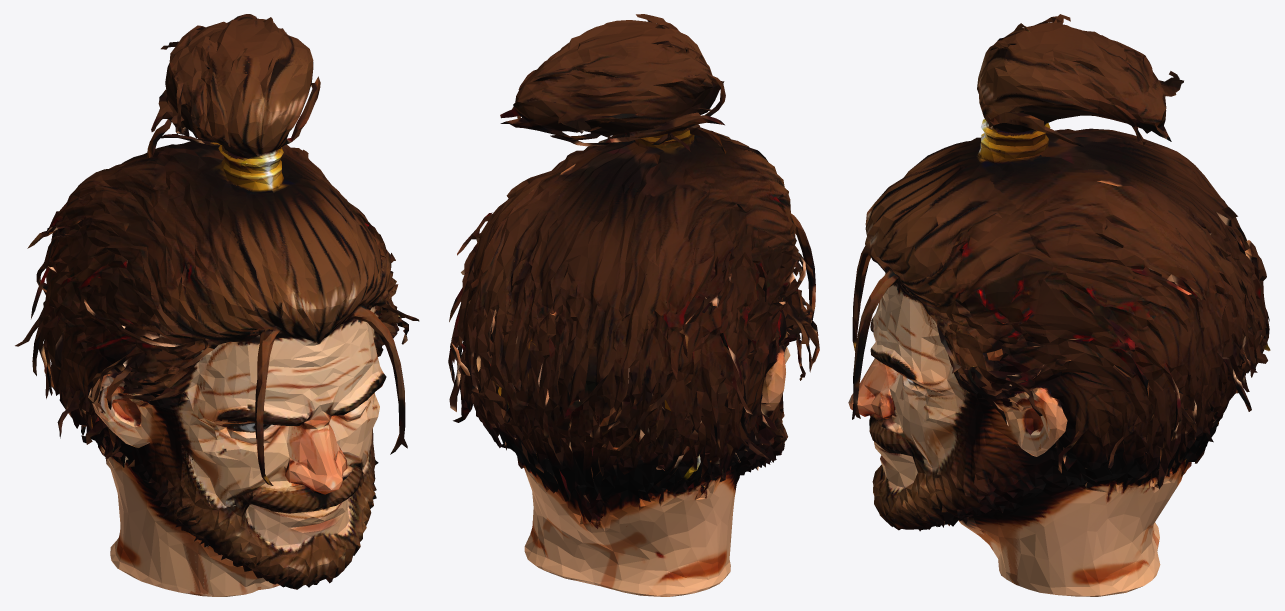
The model's file is trav_tamotsu_portrait_face.glb.
The picture shows the model from 3 angles, left to right: view 1: azimuth 30°, elevation 25°; view 2: azimuth 150°, elevation 25°; view 3: azimuth 270°, elevation 25°; orthographic projection.
Parts seen in each view (by area): view 1: temp_mesh.ply; view 2: temp_mesh.ply; view 3: temp_mesh.ply.
Boxes of the visible parts, x1=… form: temp_mesh.ply: x1=15, y1=14, x2=419, y2=596; temp_mesh.ply: x1=448, y1=14, x2=819, y2=596; temp_mesh.ply: x1=848, y1=14, x2=1270, y2=596.
Size of the model in its own units: 1.22 by 1.97 by 1.41.
Materials: 1 (1 with a texture image).
